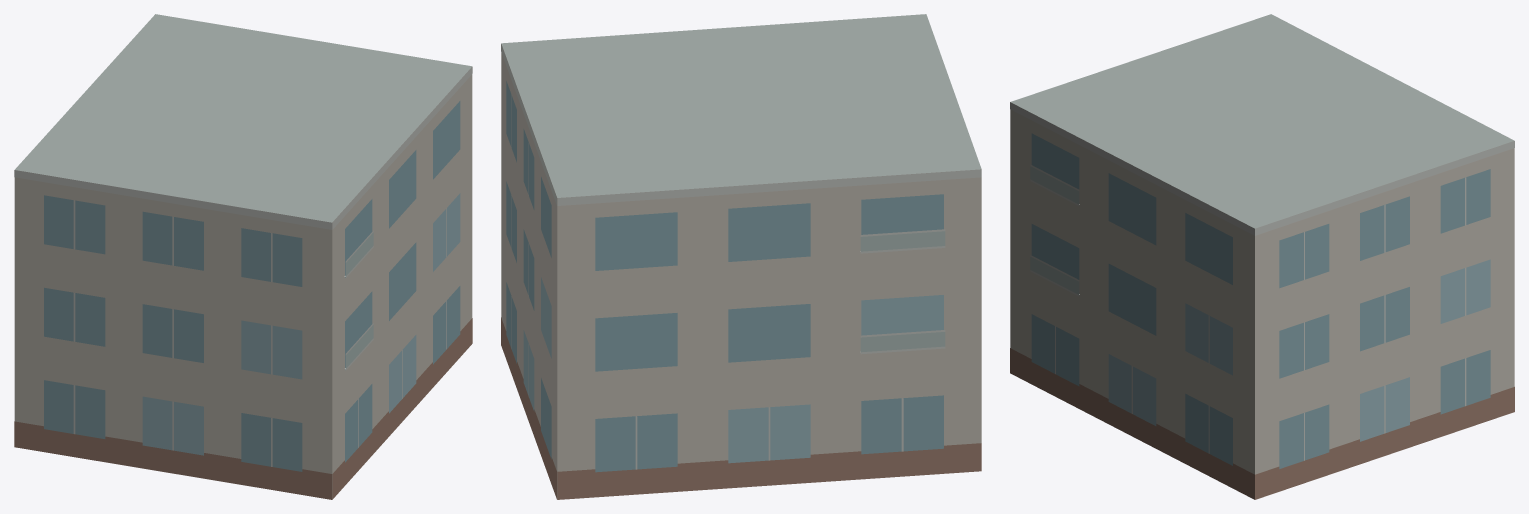
Rendered from survey-upis-32747882.glb.
The picture shows the model from 3 angles, left to right: view 1: azimuth 30°, elevation 25°; view 2: azimuth 150°, elevation 25°; view 3: azimuth 270°, elevation 25°; orthographic projection. The views are drawn at different scales.
Visible parts, largest first — view 1: survey-upis-32747882.tmp; view 2: survey-upis-32747882.tmp; view 3: survey-upis-32747882.tmp.
Boxes of the visible parts, x1,y1,x2,y2 form: survey-upis-32747882.tmp: [14, 14, 472, 499]; survey-upis-32747882.tmp: [501, 14, 981, 499]; survey-upis-32747882.tmp: [1010, 14, 1514, 499].
Size of the model in its own units: 15.54 by 9.15 by 15.44.
